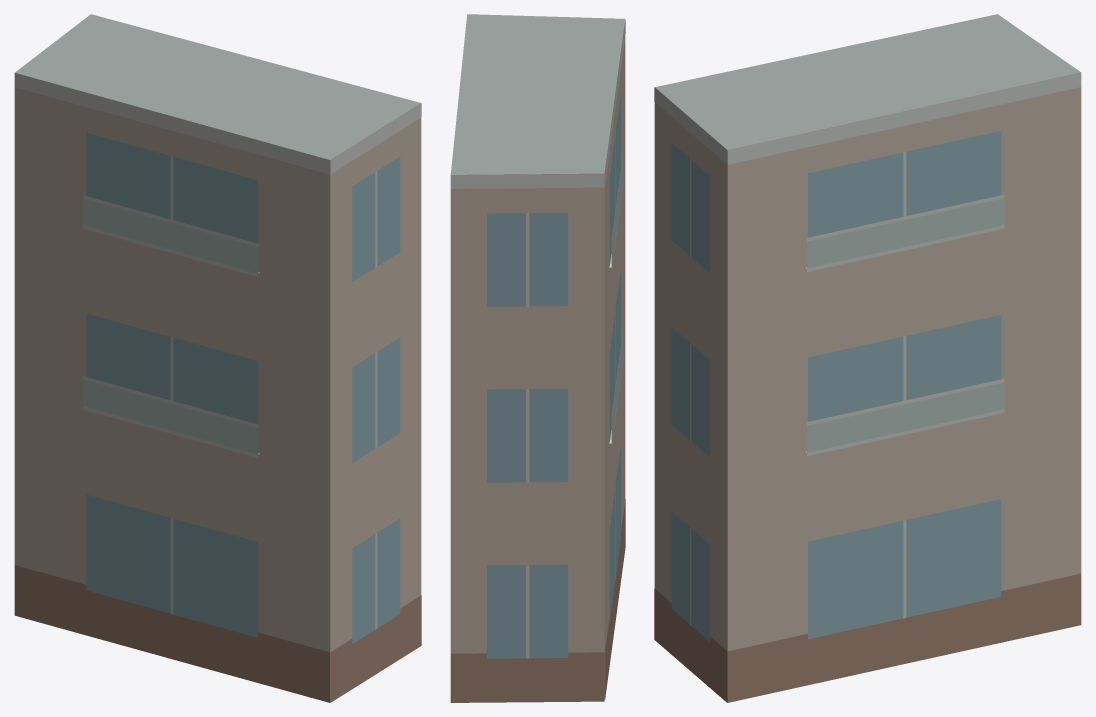
File: survey-upis-32840704.glb
The picture shows the model from 3 angles, left to right: view 1: azimuth 30°, elevation 25°; view 2: azimuth 150°, elevation 25°; view 3: azimuth 270°, elevation 25°; orthographic projection. The views are drawn at different scales.
Parts seen in each view (by area): view 1: survey-upis-32840704.tmp; view 2: survey-upis-32840704.tmp; view 3: survey-upis-32840704.tmp.
Boxes of the visible parts, x1,y1,x2,y2 form: survey-upis-32840704.tmp: [14, 14, 421, 702]; survey-upis-32840704.tmp: [450, 14, 625, 702]; survey-upis-32840704.tmp: [654, 14, 1081, 702].
Size of the model in its own units: 4.84 by 9.15 by 6.41.
